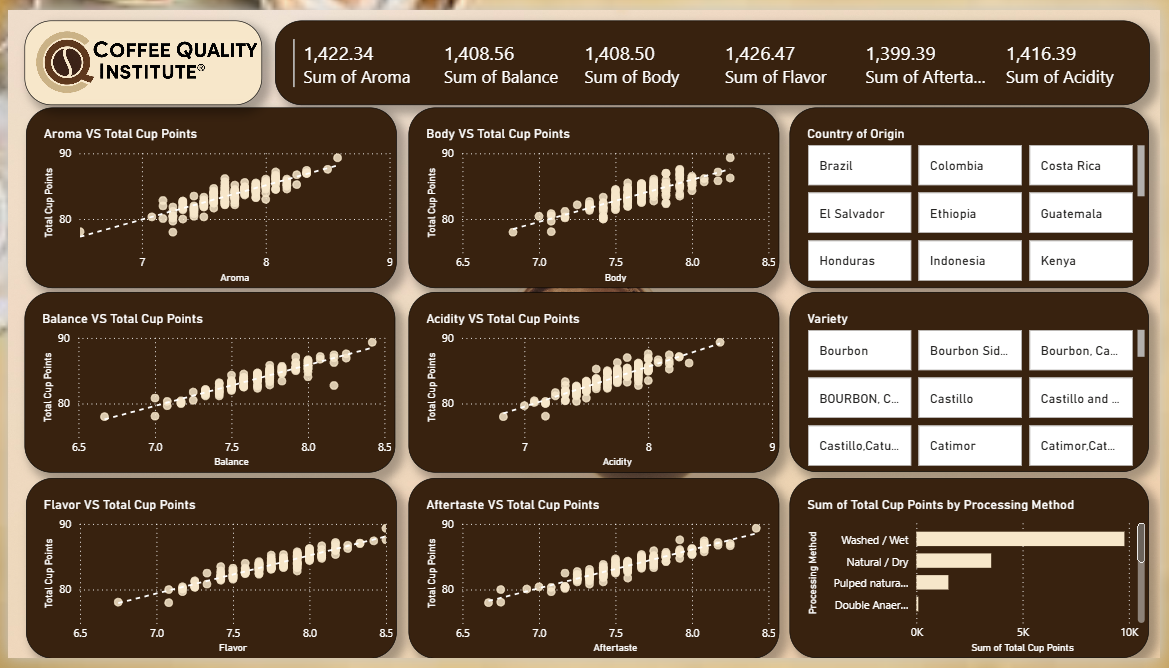

The dashboard page shown, as its layout file describes it:
{"tool":"powerbi","page":{"name":"Page 1","canvas":[1280,720],"ordinal":0},"visuals":[{"type":"multiRowCard","fields":{"Values":["Sum(df_arabica_clean csv.Aroma)","Sum(df_arabica_clean csv.Balance)","Sum(df_arabica_clean csv.Body)","Sum(df_arabica_clean csv.Flavor)","Sum(df_arabica_clean csv.Aftertaste)","Sum(df_arabica_clean csv.Acidity)"]},"box":[295.9,11.1,971.9,93.8],"z":0},{"type":"scatterChart","title":"Aroma VS Total Cup Points","fields":{"X":["df_arabica_clean csv.Aroma"],"Y":["df_arabica_clean csv.Total Cup Points"]},"box":[20.7,108,412,200.4],"z":1000},{"type":"scatterChart","title":"Body VS Total Cup Points","fields":{"Y":["df_arabica_clean csv.Total Cup Points"],"X":["df_arabica_clean csv.Body"]},"box":[445.4,108.2,412,200.4],"z":2000},{"type":"scatterChart","title":"Balance VS Total Cup Points","fields":{"Y":["df_arabica_clean csv.Total Cup Points"],"X":["df_arabica_clean csv.Balance"]},"box":[19,314,412,200.4],"z":3000},{"type":"scatterChart","title":"Flavor VS Total Cup Points","fields":{"Y":["df_arabica_clean csv.Total Cup Points"],"X":["df_arabica_clean csv.Flavor"]},"box":[20.7,520.1,412,200.4],"z":4000},{"type":"scatterChart","title":"Acidity VS Total Cup Points","fields":{"Y":["df_arabica_clean csv.Total Cup Points"],"X":["df_arabica_clean csv.Acidity"]},"box":[445.4,313.4,412,200.4],"z":5000},{"type":"scatterChart","title":"Aftertaste VS Total Cup Points","fields":{"Y":["df_arabica_clean csv.Total Cup Points"],"X":["df_arabica_clean csv.Aftertaste"]},"box":[445.4,520.1,412,200.4],"z":6000},{"type":"advancedSlicerVisual","fields":{"Values":["df_arabica_clean csv.Country of Origin"]},"box":[868.5,108.2,399.2,200.4],"z":7000},{"type":"advancedSlicerVisual","fields":{"Values":["df_arabica_clean csv.Variety"]},"box":[868,313,399,200],"z":8000},{"type":"barChart","fields":{"Category":["df_arabica_clean csv.Processing Method"],"Y":["Sum(df_arabica_clean csv.Total Cup Points)"]},"box":[868,520,399,200],"z":9000},{"type":"shape","box":[19.1,11.1,264,93.8],"z":10000},{"type":"image","box":[20.7,0,262.5,120.9],"z":11000}]}

Visuals, with their boxes in screenshot pixels (x1, y1, x2, y2), scaled from the page's 1280x720 canvas onto the 1169x668 screenshot:
multiRowCard - Sum(df_arabica_clean csv.Aroma) x Sum(df_arabica_clean csv.Balance): detection(270, 10, 1158, 97)
"Aroma VS Total Cup Points" scatterChart: detection(19, 100, 395, 286)
"Body VS Total Cup Points" scatterChart: detection(407, 100, 783, 286)
"Balance VS Total Cup Points" scatterChart: detection(17, 291, 394, 477)
"Flavor VS Total Cup Points" scatterChart: detection(19, 483, 395, 667)
"Acidity VS Total Cup Points" scatterChart: detection(407, 291, 783, 477)
"Aftertaste VS Total Cup Points" scatterChart: detection(407, 483, 783, 667)
advancedSlicerVisual - df_arabica_clean csv.Country of Origin: detection(793, 100, 1158, 286)
advancedSlicerVisual - df_arabica_clean csv.Variety: detection(793, 290, 1157, 476)
barChart - df_arabica_clean csv.Processing Method x Sum(df_arabica_clean csv.Total Cup Points): detection(793, 482, 1157, 667)
shape: detection(17, 10, 259, 97)
image: detection(19, 0, 259, 112)
